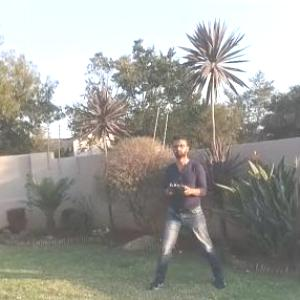follow: (147, 127, 232, 293)
